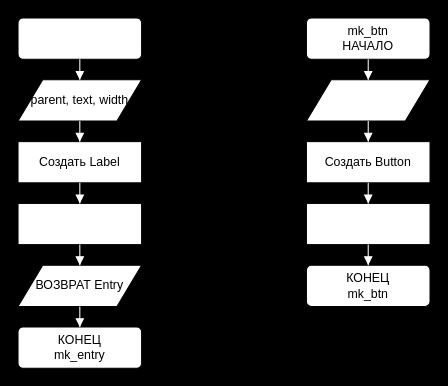
Some shapes in this 448 by 386 pixel diagram are drawn without their labels. Each missing label, with the centre of its shape:
mk_entry НАЧАЛО: the point at 79,38
parent, text, command: the point at 367,100
Назначить command: the point at 367,223
Создать Entry: the point at 79,223
